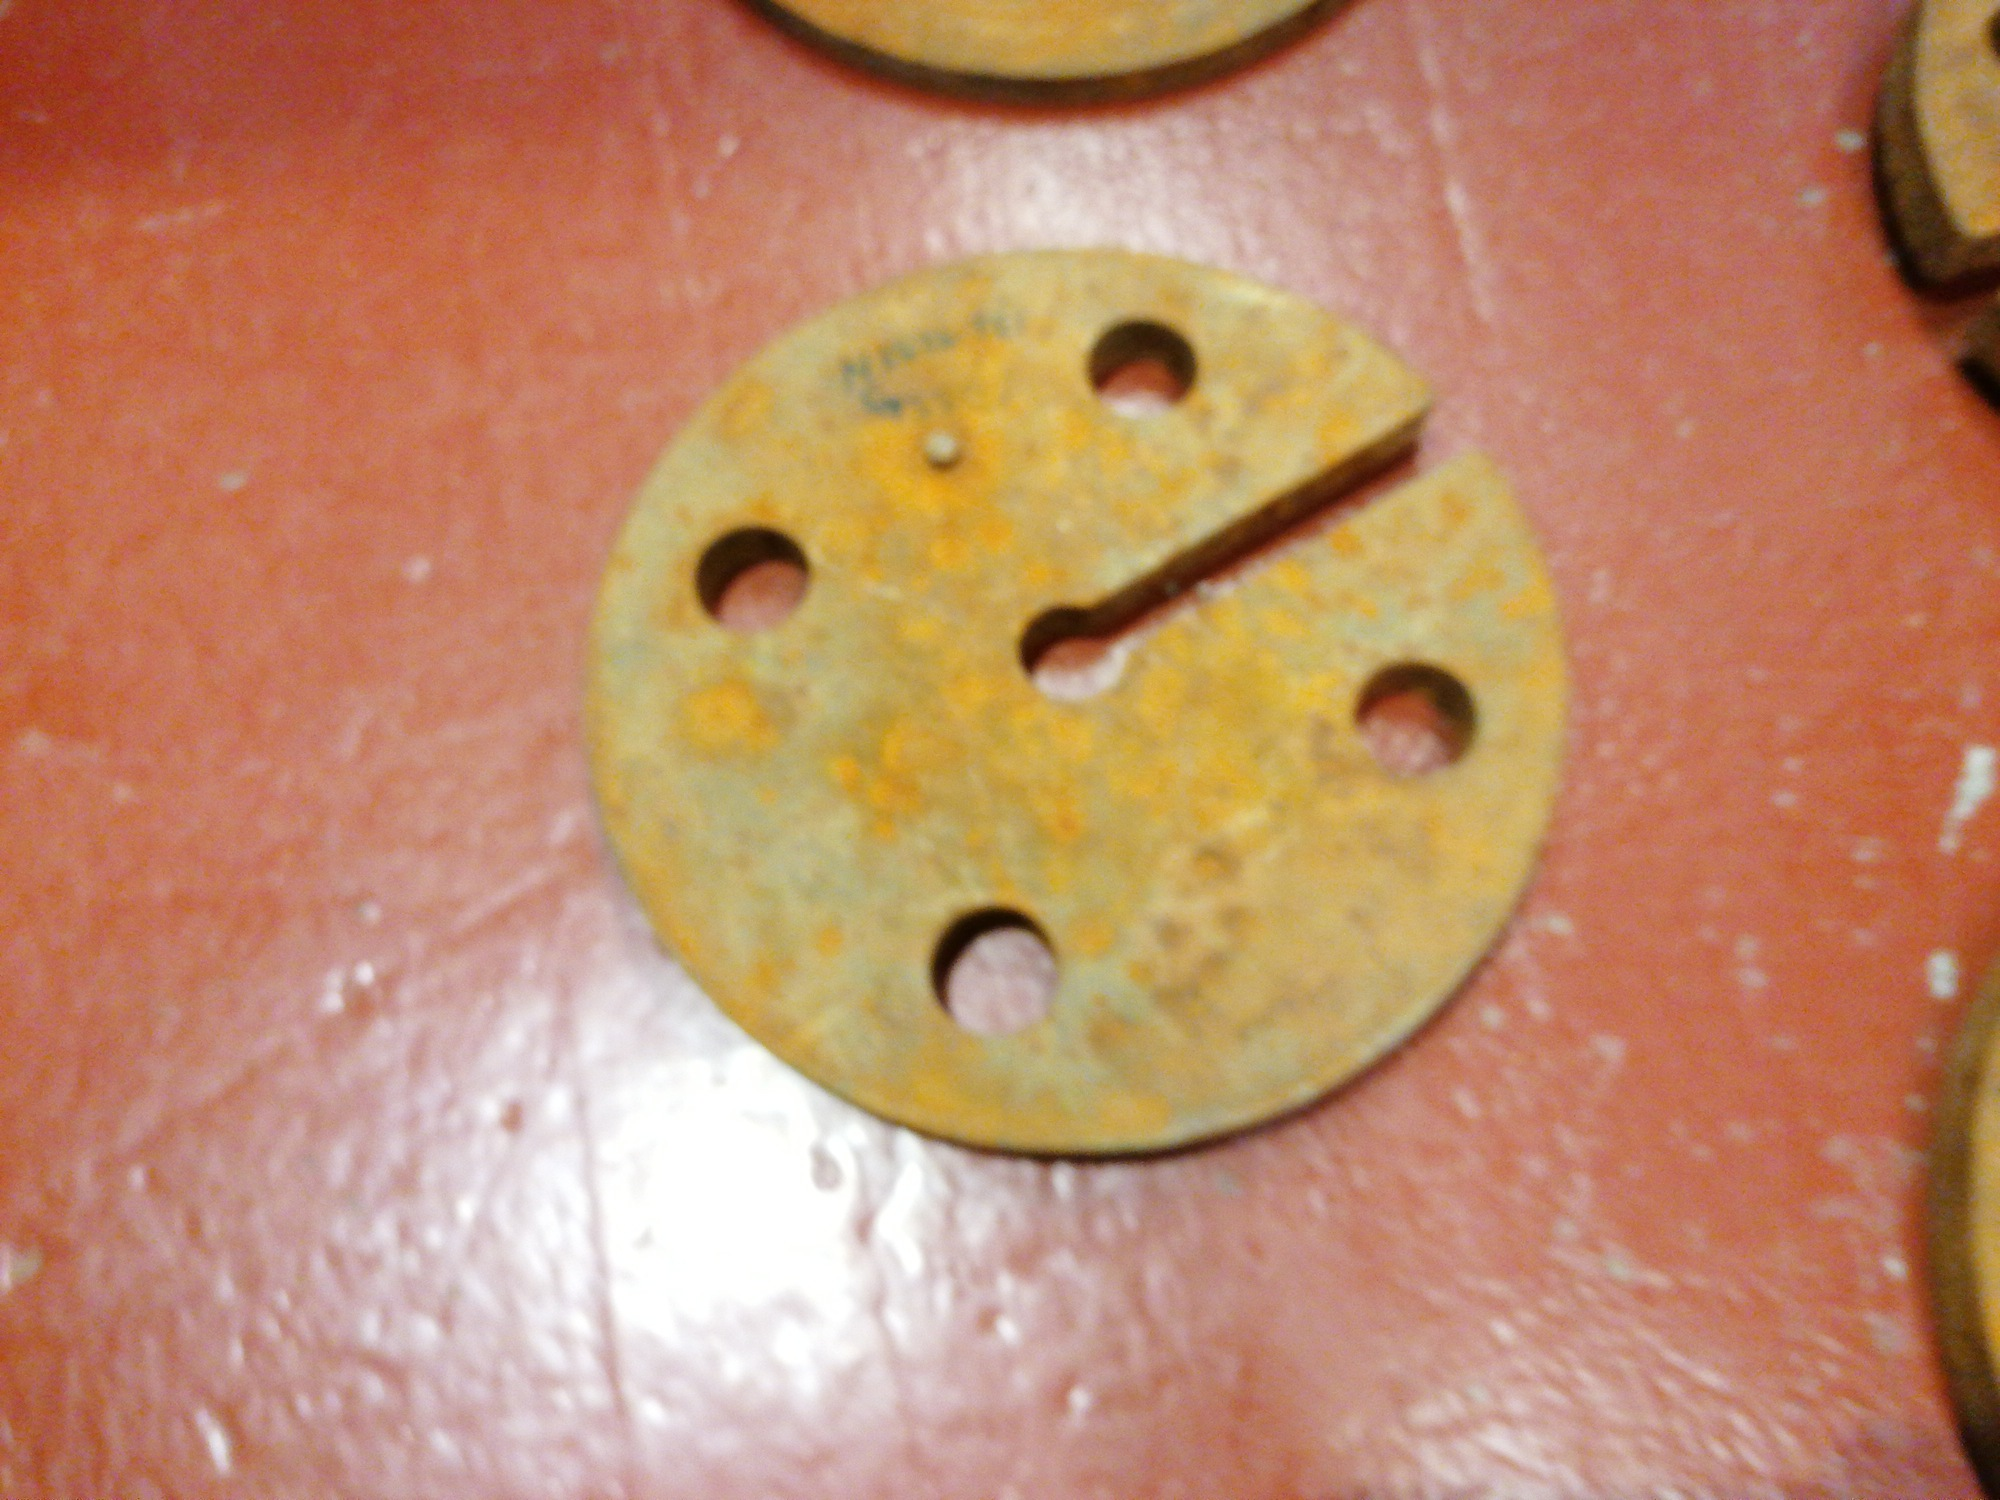flange: (580, 247, 1573, 1161), (746, 0, 1343, 110), (1866, 2, 2000, 407), (1923, 941, 2000, 1498)
